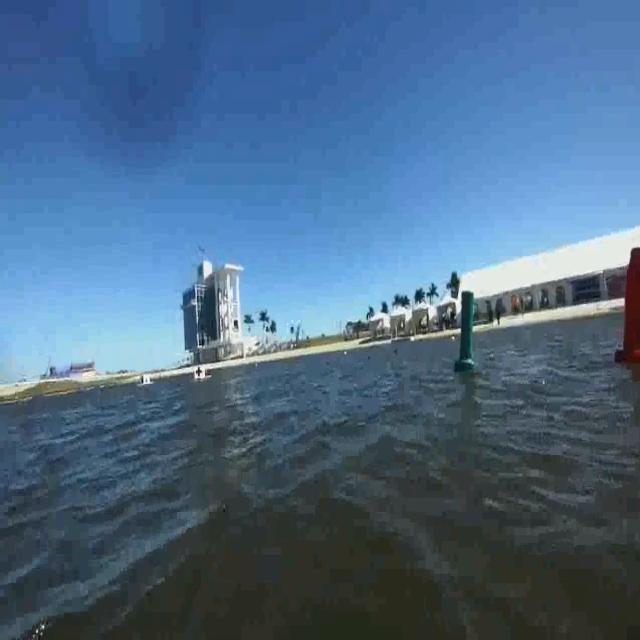green-column-buoy: (456, 289, 478, 373)
red-column-buoy: (616, 243, 640, 367)
